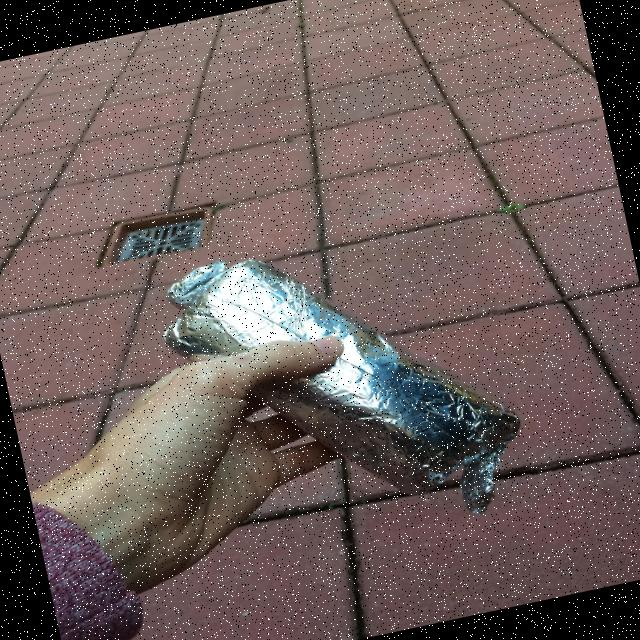Aluminium foil: (164, 259, 521, 513)
